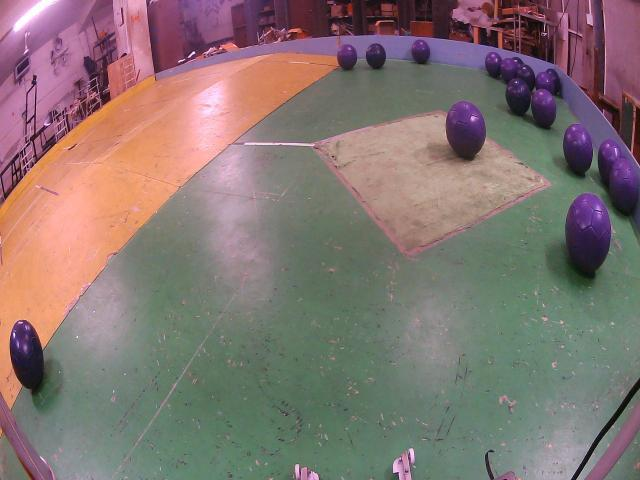jambhalya: (565, 193, 611, 273), (445, 102, 486, 160), (609, 158, 638, 215), (562, 123, 592, 175), (598, 140, 622, 185), (531, 88, 556, 128), (338, 45, 358, 70), (411, 38, 430, 63), (535, 72, 555, 95), (500, 58, 518, 83), (485, 52, 502, 78)
kaalyya: (10, 320, 44, 390), (505, 78, 531, 115), (516, 65, 535, 92), (366, 43, 386, 68), (546, 68, 561, 94), (512, 57, 524, 65)
